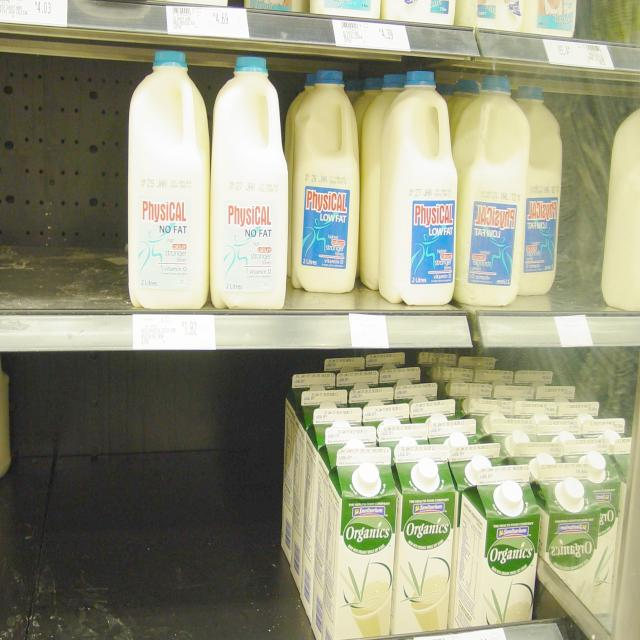empty_space: (23, 390, 273, 630), (12, 68, 112, 280)
